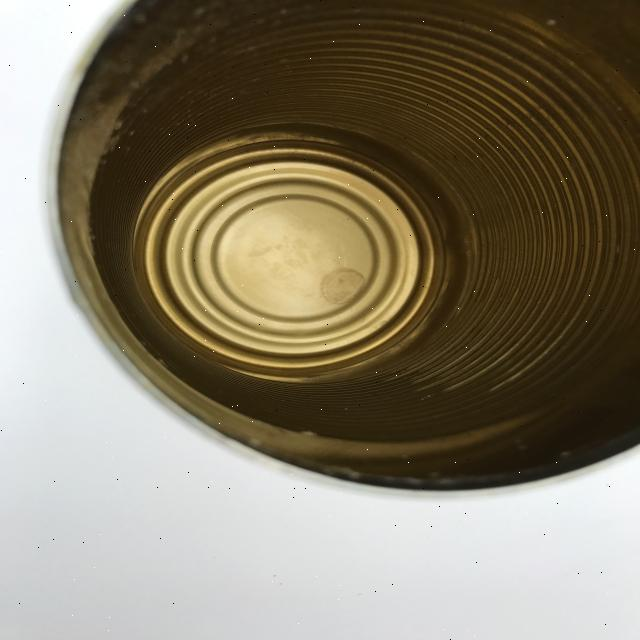metal: (51, 0, 638, 492)
